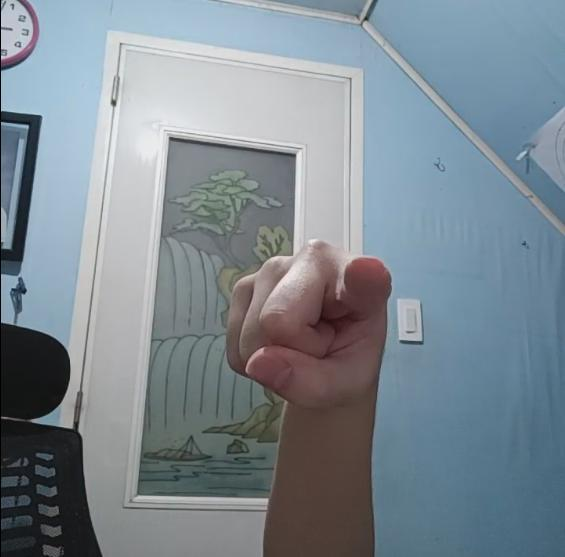z: (222, 237, 394, 416)
